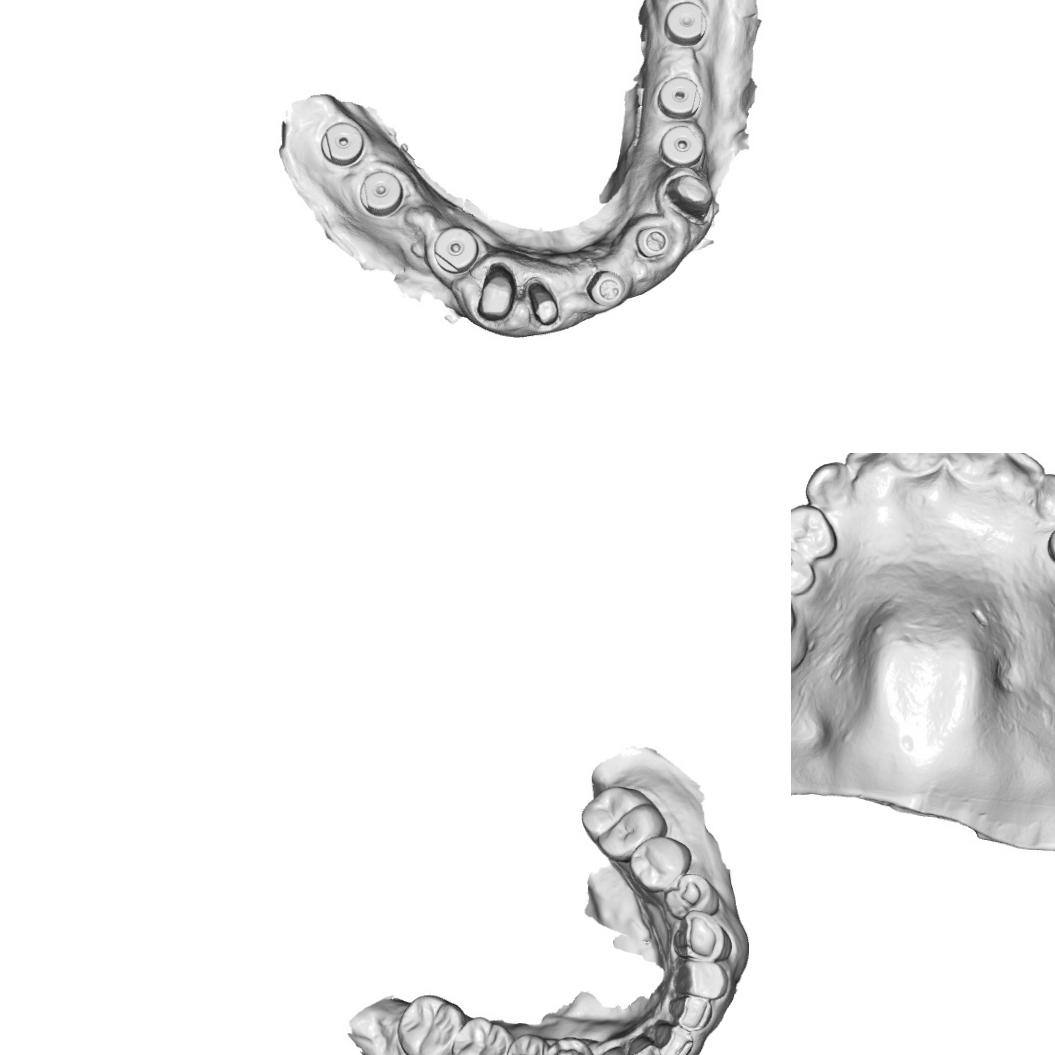canine: (671, 912, 730, 960), (803, 459, 853, 510), (1035, 470, 1055, 518)
crown: (658, 172, 718, 218), (476, 260, 517, 324), (523, 276, 563, 330)
implant: (318, 118, 368, 167), (432, 225, 481, 275), (356, 168, 407, 216), (662, 0, 710, 45), (655, 74, 703, 118), (659, 122, 702, 164), (586, 266, 629, 308), (633, 223, 672, 261)
incisor: (674, 958, 731, 1000), (666, 995, 717, 1036), (946, 453, 1006, 485), (1001, 453, 1044, 496), (653, 1021, 696, 1055), (888, 453, 947, 475), (845, 453, 891, 476), (624, 1036, 663, 1055)
molar: (576, 786, 666, 863), (397, 991, 459, 1055), (452, 1015, 513, 1055)
premolar: (630, 835, 687, 892), (791, 504, 839, 559), (665, 871, 717, 917), (791, 541, 817, 596), (505, 1031, 554, 1055), (552, 1037, 590, 1055)
